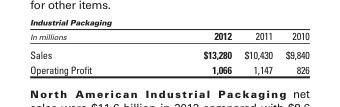table: (29, 28, 308, 76)
table column: (29, 28, 146, 76), (146, 28, 237, 76), (237, 28, 278, 76), (278, 28, 308, 76)
table column header: (29, 28, 308, 44)
table row: (29, 44, 308, 62), (29, 28, 308, 44), (29, 62, 308, 76)
